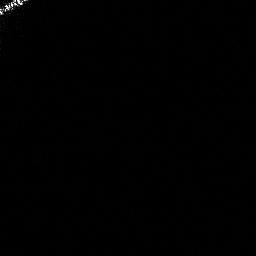ship: (1, 1, 31, 17)
